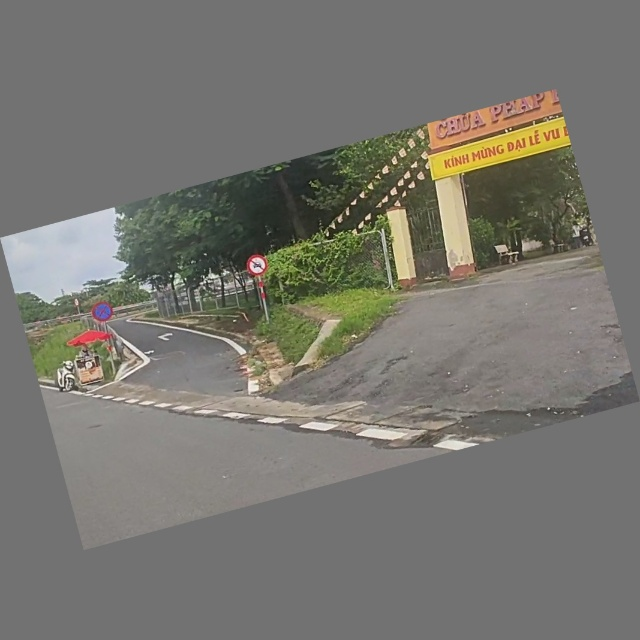P.103a: (244, 252, 270, 280)
P.130: (89, 300, 116, 326)
